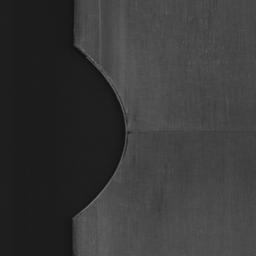Crescent gap: (75, 48, 126, 216)
